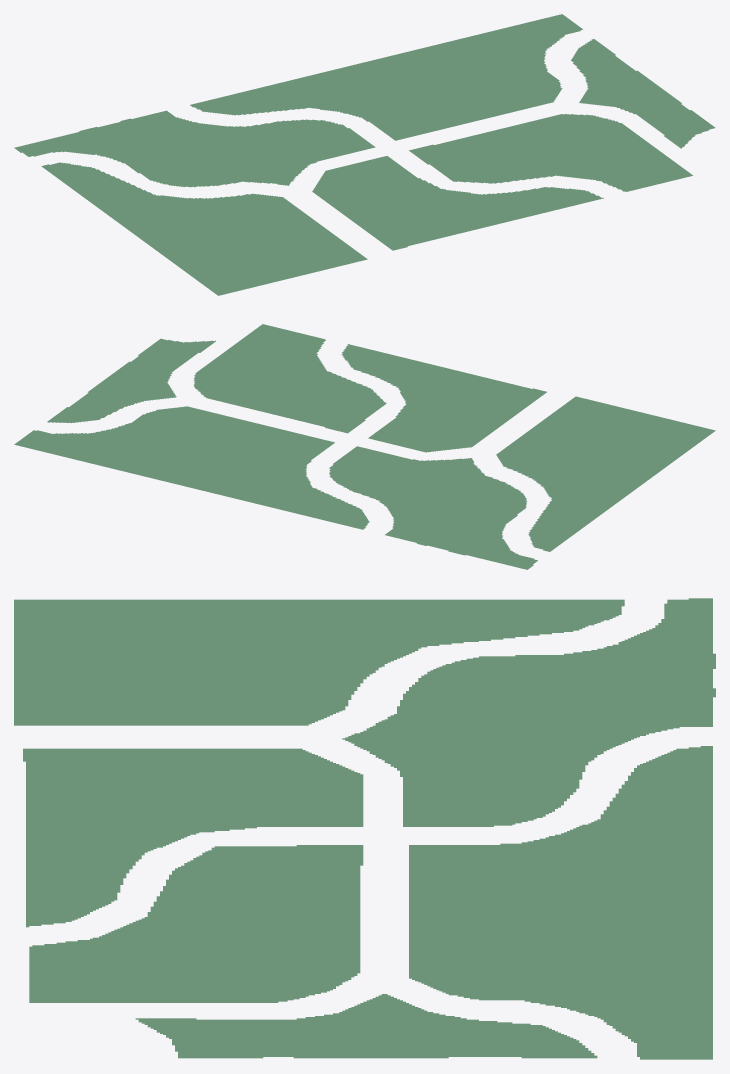
File: park_grass.glb
The picture shows the model from 3 angles, top to bottom: view 1: azimuth 30°, elevation 25°; view 2: azimuth 150°, elevation 25°; view 3: azimuth 270°, elevation 25°; orthographic projection. The views are drawn at different scales.
Visible parts, largest first — view 1: Herbe; view 2: Herbe; view 3: Herbe.
Part boxes in pixels (x1,y1,x2,y2): Herbe: (14, 14, 715, 295); Herbe: (14, 324, 715, 569); Herbe: (14, 598, 715, 1059).
Size of the model in its own units: 359 by 0 by 231.
